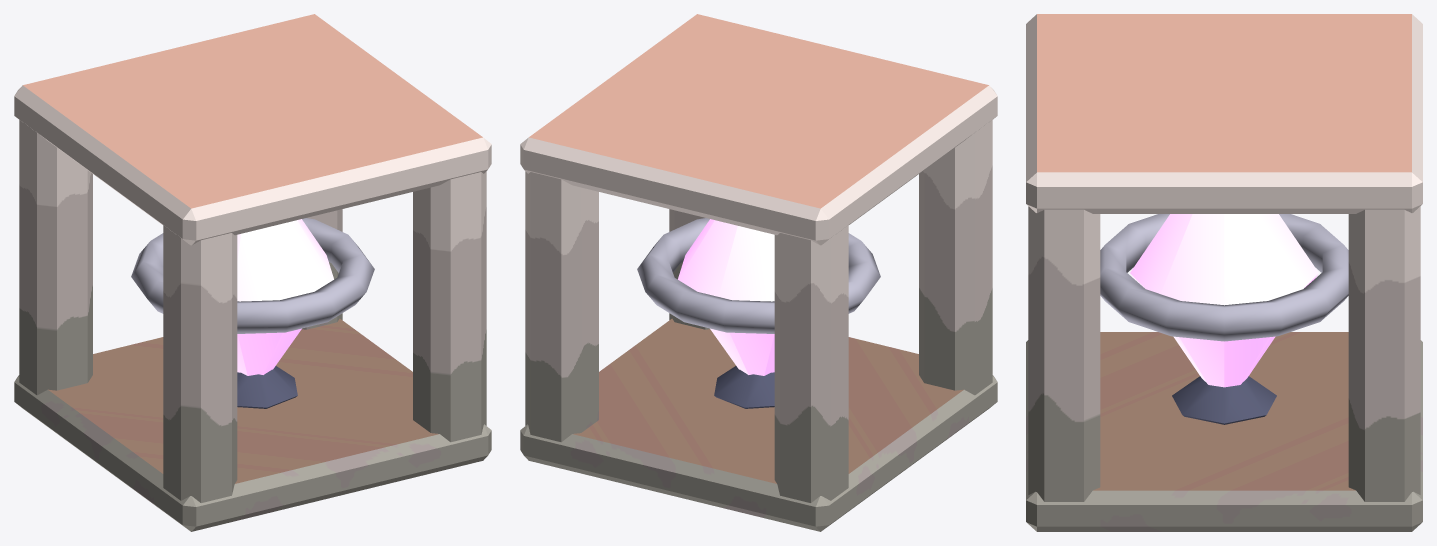
Rendered from R4X_CoreBooster_LOD1.glb.
3 renders of one model, left to right at view 1: azimuth 30°, elevation 25°; view 2: azimuth 150°, elevation 25°; view 3: azimuth 270°, elevation 25°, orthographic. The views are drawn at different scales.
Parts seen in each view (by area): view 1: R4X_CoreBooster_LOD1; view 2: R4X_CoreBooster_LOD1; view 3: R4X_CoreBooster_LOD1.
Part boxes in pixels (x1,y1,x2,y2): R4X_CoreBooster_LOD1: [14, 14, 491, 531]; R4X_CoreBooster_LOD1: [520, 14, 997, 531]; R4X_CoreBooster_LOD1: [1026, 14, 1422, 531].
Size of the model in its own units: 0.52 by 0.52 by 0.52.
5 materials, 4 textured.
